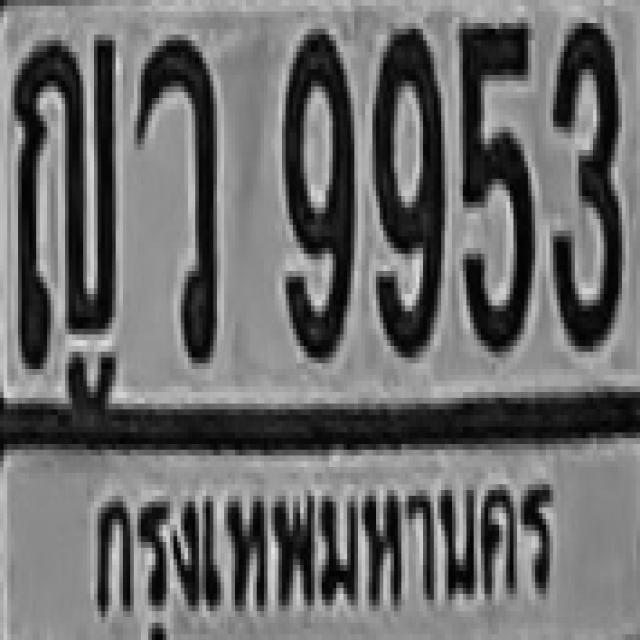0: (282, 26, 354, 355)
22YorYing: (11, 32, 116, 354), (12, 72, 118, 360), (11, 29, 116, 288)
3: (548, 17, 620, 346)
46WorWaen: (132, 35, 215, 358)
5: (459, 20, 532, 349)
9: (371, 23, 443, 352), (282, 26, 354, 355)
Bangkok: (70, 451, 575, 640)
